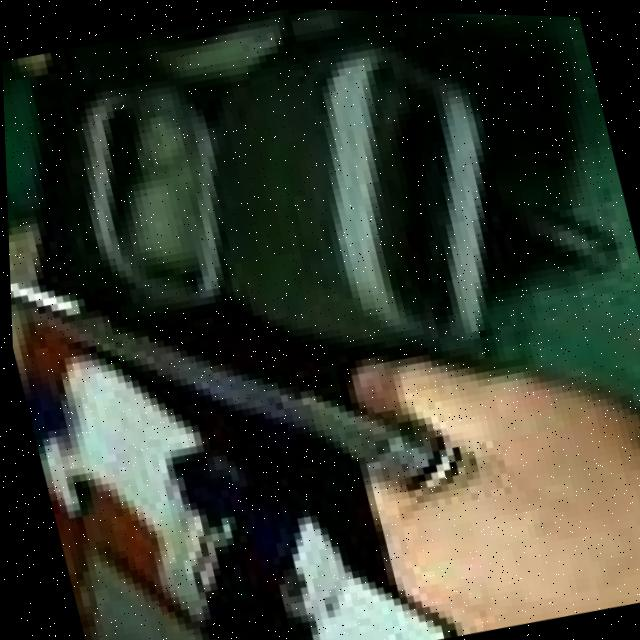knife: (5, 183, 450, 556)
